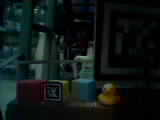duck: (93, 68, 129, 110)
